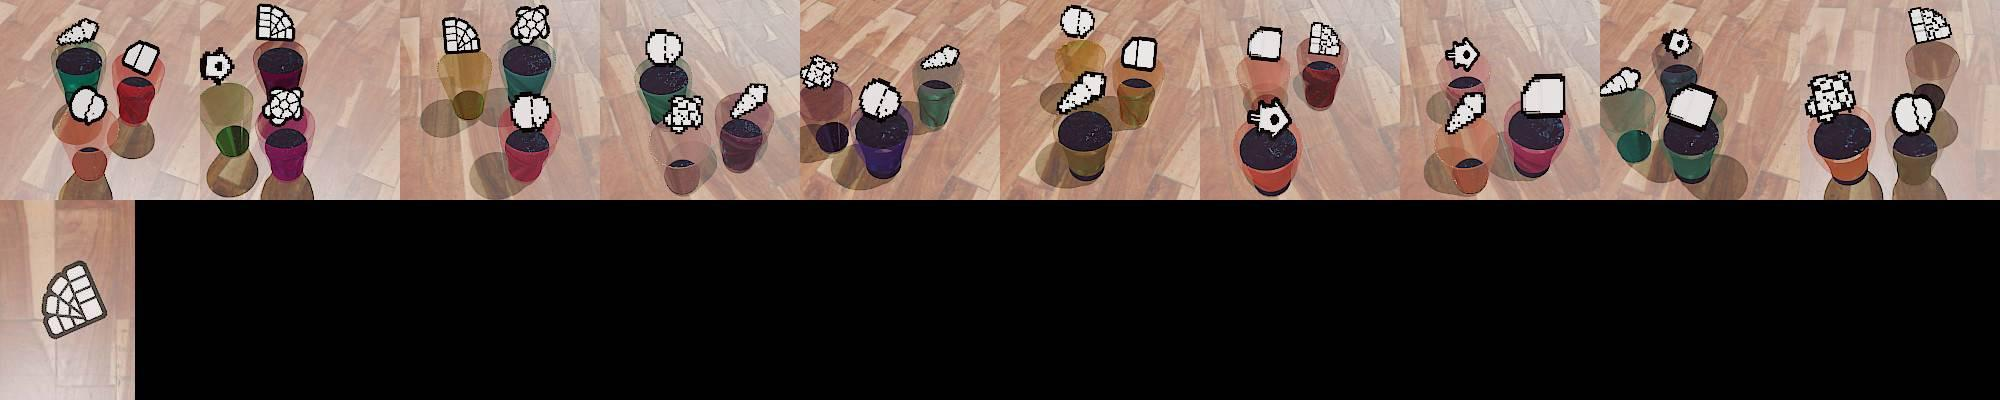icon: (38, 260, 107, 340), (1803, 70, 1857, 119), (1055, 68, 1107, 115), (1665, 83, 1718, 129), (1891, 90, 1937, 137), (1443, 87, 1487, 134), (857, 77, 903, 121), (1521, 72, 1567, 116), (1248, 95, 1291, 138), (1908, 6, 1953, 44), (728, 82, 769, 122), (509, 92, 552, 130), (662, 93, 705, 131), (441, 15, 481, 55), (262, 87, 304, 125), (511, 5, 550, 45), (645, 28, 684, 67), (256, 3, 296, 41), (800, 53, 839, 91), (69, 87, 108, 125), (1120, 35, 1157, 73), (122, 40, 161, 76), (1306, 20, 1343, 57), (56, 17, 100, 48), (1059, 4, 1096, 40), (1247, 25, 1284, 61), (1599, 66, 1641, 97), (200, 48, 235, 85), (1444, 37, 1480, 72), (920, 43, 961, 70), (1660, 28, 1693, 58)
